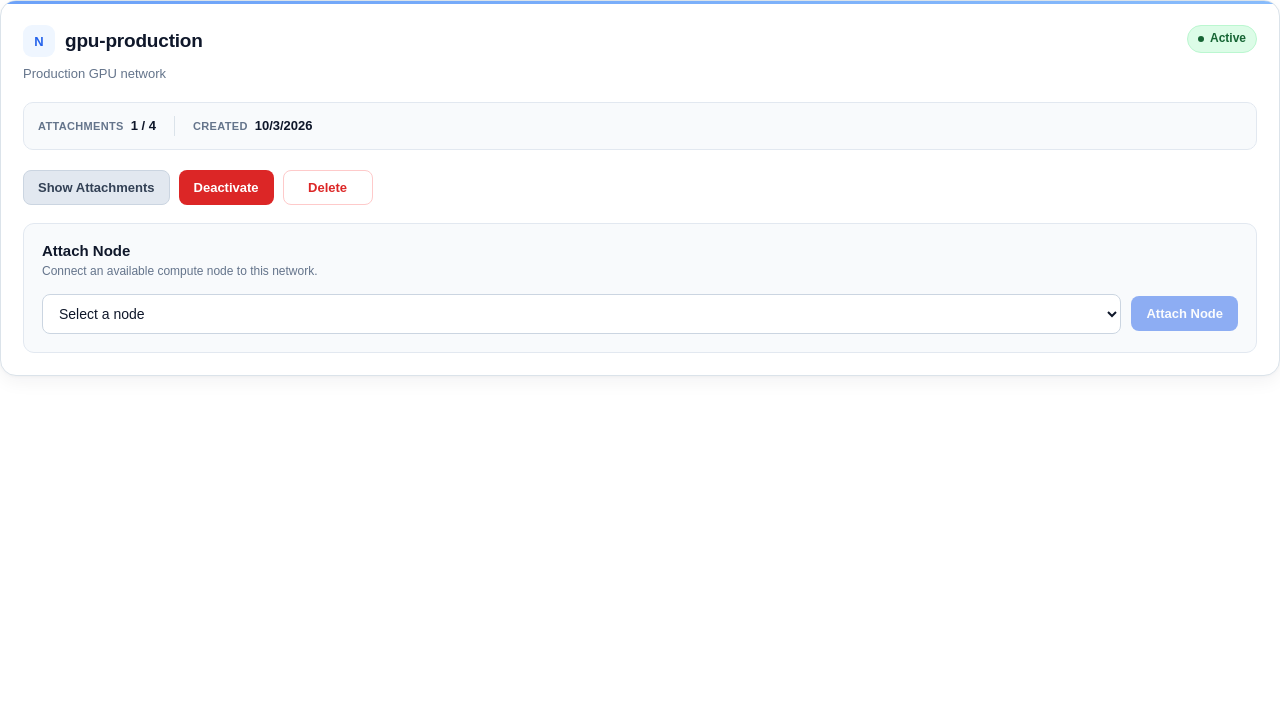
Test case: NetworkCard › shows attachments when Show attachments is clicked
The width and height of the screenshot is (1280, 720).
Expected: the text "1 / 4" is shown, 131,118 -> 156,133
What coordinates should you click on to do the following:
click the button "Show Attachments"
I would click on:
 (96, 187)
Its box is 23,170 -> 170,204.
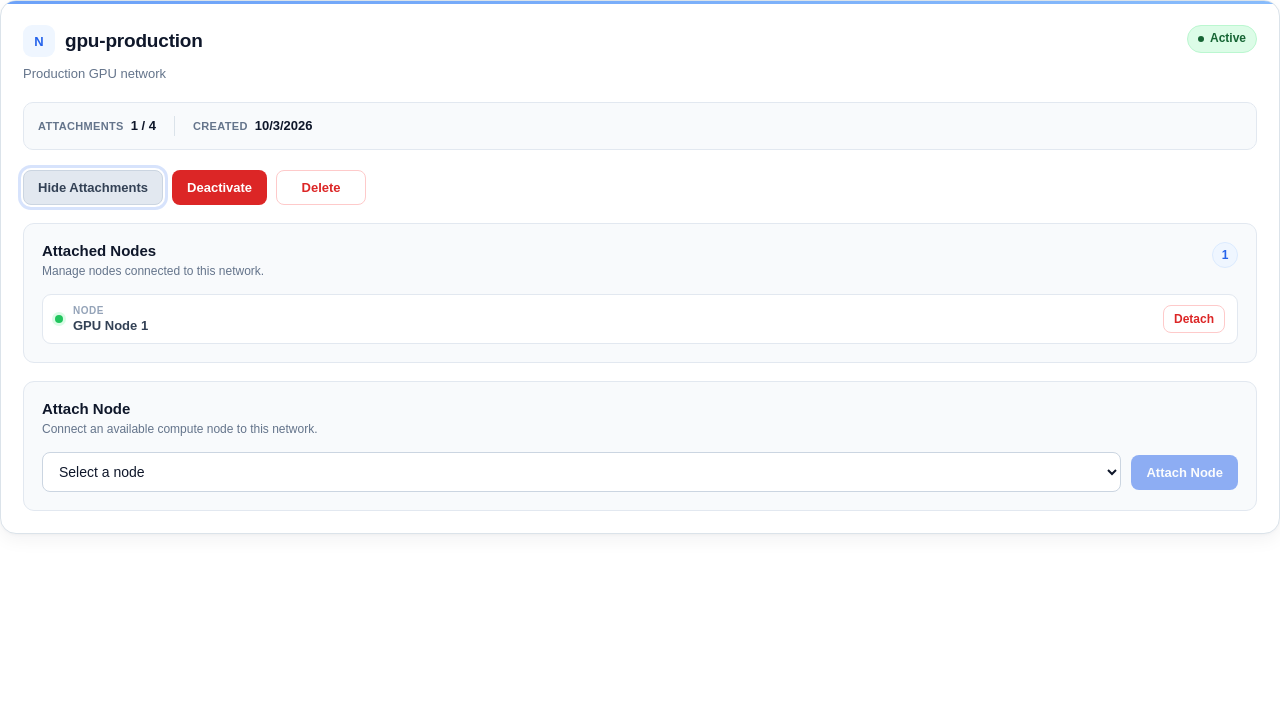
Expected: the text "GPU Node 1" is shown, 73,318 -> 148,333
Expected: the button "Hide Attachments" is shown, 23,170 -> 163,204
